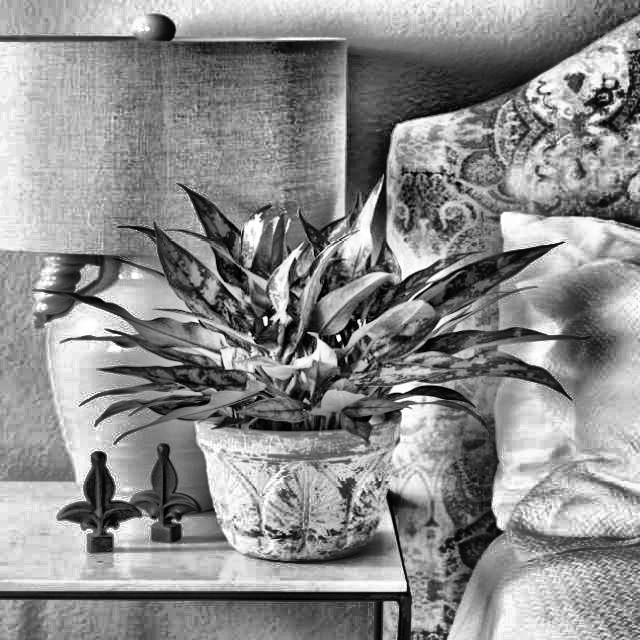plants: (152, 173, 462, 424)
